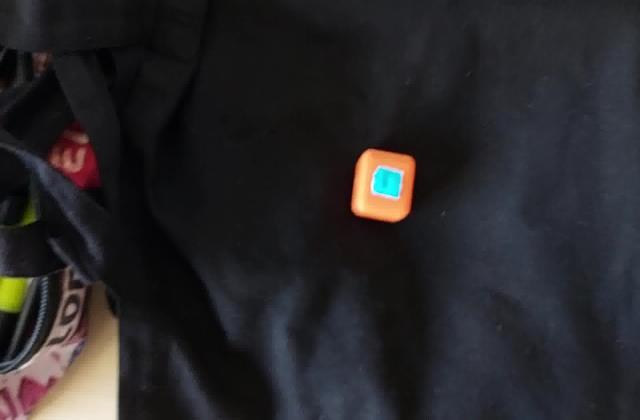blue: (378, 170, 398, 194)
sticker: (348, 146, 418, 226)
